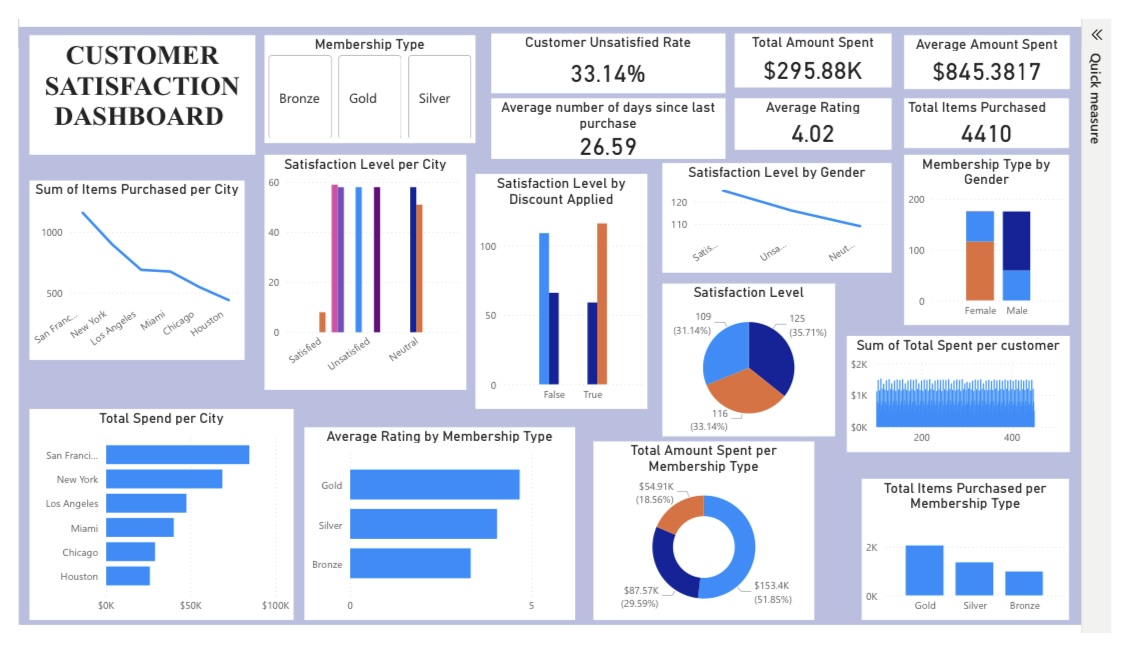

Layout of this report page (visuals, bound fields, positions):
{"tool":"powerbi","page":{"name":"Page 1","canvas":[1280,720],"ordinal":0},"visuals":[{"type":"donutChart","title":"Total Amount Spent per Membership Type","fields":{"Category":["E-commerce Customer Behavior - Sheet1.Membership Type"],"Y":["Sum(E-commerce Customer Behavior - Sheet1.Total Spend)"]},"box":[706.2,499.5,251.3,214.7],"z":0},{"type":"clusteredBarChart","title":"Total Spend per City","fields":{"Category":["E-commerce Customer Behavior - Sheet1.City"],"Y":["Sum(E-commerce Customer Behavior - Sheet1.Total Spend)"]},"box":[12.7,459.7,318.1,254.5],"z":1000},{"type":"lineChart","title":"Sum of Items Purchased per  City","fields":{"Category":["E-commerce Customer Behavior - Sheet1.City"],"Y":["Sum(E-commerce Customer Behavior - Sheet1.Items Purchased)"]},"box":[12.7,184.5,259.3,216.3],"z":2000},{"type":"card","title":"Total Amount Spent","fields":{"Values":["Sum(E-commerce Customer Behavior - Sheet1.Total Spend)"]},"box":[862.1,0,189.3,65.2],"z":4000},{"type":"card","title":"Average Rating","fields":{"Values":["Avg(E-commerce Customer Behavior - Sheet1.Rating)"]},"box":[862.1,77.9,189.3,62],"z":6000},{"type":"columnChart","title":"Membership Type by Gender ","fields":{"Category":["E-commerce Customer Behavior - Sheet1.Gender"],"Y":["CountNonNull(E-commerce Customer Behavior - Sheet1.Membership Type)"],"Series":["E-commerce Customer Behavior - Sheet1.Membership Type"]},"box":[1065.7,154.3,198.8,205.2],"z":7000},{"type":"card","title":"Total Items Purchased","fields":{"Values":["Sum(E-commerce Customer Behavior - Sheet1.Items Purchased)"]},"box":[1065.7,77.9,198.8,60.4],"z":8000},{"type":"advancedSlicerVisual","fields":{"Values":["E-commerce Customer Behavior - Sheet1.Membership Type"]},"box":[295.9,17.5,254.5,122.5],"z":9000},{"type":"lineChart","title":" Satisfaction Level by Gender","fields":{"Y":["CountNonNull(E-commerce Customer Behavior - Sheet1.Gender)"],"Category":["E-commerce Customer Behavior - Sheet1.Satisfaction Level"]},"box":[774.6,159.1,276.8,136.8],"z":10000},{"type":"textbox","box":[12.7,17.5,272,136.8],"z":11000},{"type":"card","title":"Average number of days since last purchase","fields":{"Values":["Avg(E-commerce Customer Behavior - Sheet1.Days Since Last Purchase)"]},"box":[569.4,71.6,281.5,87.5],"z":12000},{"type":"clusteredColumnChart","title":"Satisfaction Level by Discount Applied ","fields":{"Category":["E-commerce Customer Behavior - Sheet1.Discount Applied"],"Series":["E-commerce Customer Behavior - Sheet1.Satisfaction Level"],"Y":["CountNonNull(E-commerce Customer Behavior - Sheet1.Satisfaction Level)"]},"box":[550.4,176.6,206.8,283.1],"z":13000},{"type":"clusteredBarChart","title":"Average Rating by Membership Type","fields":{"Category":["E-commerce Customer Behavior - Sheet1.Membership Type"],"Y":["Avg(E-commerce Customer Behavior - Sheet1.Rating)"]},"box":[343.6,505.8,326.1,208.4],"z":14000},{"type":"card","title":"Customer Unsatisfied Rate","fields":{"Values":["E-commerce Customer Behavior - Sheet1.UnsatisfiedRate"]},"box":[569.4,0,281.5,65.2],"z":15000},{"type":"pieChart","title":"Satisfaction Level ","fields":{"Category":["E-commerce Customer Behavior - Sheet1.Satisfaction Level"],"Y":["CountNonNull(E-commerce Customer Behavior - Sheet1.Satisfaction Level)"]},"box":[774.6,308.6,208.4,184.5],"z":16000},{"type":"clusteredColumnChart","title":"Total Items Purchased per Membership Type","fields":{"Y":["Sum(E-commerce Customer Behavior - Sheet1.Items Purchased)"],"Category":["E-commerce Customer Behavior - Sheet1.Membership Type"]},"box":[1014.8,544,249.7,170.2],"z":17000},{"type":"clusteredColumnChart","title":"Sum of Total Spent per customer","fields":{"Y":["Sum(E-commerce Customer Behavior - Sheet1.Total Spend)"],"Category":["E-commerce Customer Behavior - Sheet1.Customer ID"]},"box":[997.3,372.2,268.8,140],"z":19000},{"type":"clusteredColumnChart","title":" Satisfaction Level per City","fields":{"Category":["E-commerce Customer Behavior - Sheet1.Satisfaction Level"],"Series":["E-commerce Customer Behavior - Sheet1.City"],"Y":["CountNonNull(E-commerce Customer Behavior - Sheet1.City)"]},"box":[295.9,154.3,243.4,283.1],"z":20000},{"type":"card","title":"Average Amount Spent","fields":{"Values":["Avg(E-commerce Customer Behavior - Sheet1.Total Spend)"]},"box":[1065.7,0,200.4,65.2],"z":21000}]}

Visuals, with their boxes on the page's 1280x720 design canvas (x1, y1, x2, y2). These are canvas units, not pixel positions in the 1129x647 screenshot, which may show the page scaled, cropped or inside an application window:
"Total Amount Spent per Membership Type" donutChart: x1=706 y1=500 x2=958 y2=714
"Total Spend per City" clusteredBarChart: x1=13 y1=460 x2=331 y2=714
"Sum of Items Purchased per  City" lineChart: x1=13 y1=184 x2=272 y2=401
"Total Amount Spent" card: x1=862 y1=0 x2=1051 y2=65
"Average Rating" card: x1=862 y1=78 x2=1051 y2=140
"Membership Type by Gender " columnChart: x1=1066 y1=154 x2=1264 y2=360
"Total Items Purchased" card: x1=1066 y1=78 x2=1264 y2=138
advancedSlicerVisual - E-commerce Customer Behavior - Sheet1.Membership Type: x1=296 y1=18 x2=550 y2=140
" Satisfaction Level by Gender" lineChart: x1=775 y1=159 x2=1051 y2=296
textbox: x1=13 y1=18 x2=285 y2=154
"Average number of days since last purchase" card: x1=569 y1=72 x2=851 y2=159
"Satisfaction Level by Discount Applied " clusteredColumnChart: x1=550 y1=177 x2=757 y2=460
"Average Rating by Membership Type" clusteredBarChart: x1=344 y1=506 x2=670 y2=714
"Customer Unsatisfied Rate" card: x1=569 y1=0 x2=851 y2=65
"Satisfaction Level " pieChart: x1=775 y1=309 x2=983 y2=493
"Total Items Purchased per Membership Type" clusteredColumnChart: x1=1015 y1=544 x2=1264 y2=714
"Sum of Total Spent per customer" clusteredColumnChart: x1=997 y1=372 x2=1266 y2=512
" Satisfaction Level per City" clusteredColumnChart: x1=296 y1=154 x2=539 y2=437
"Average Amount Spent" card: x1=1066 y1=0 x2=1266 y2=65
